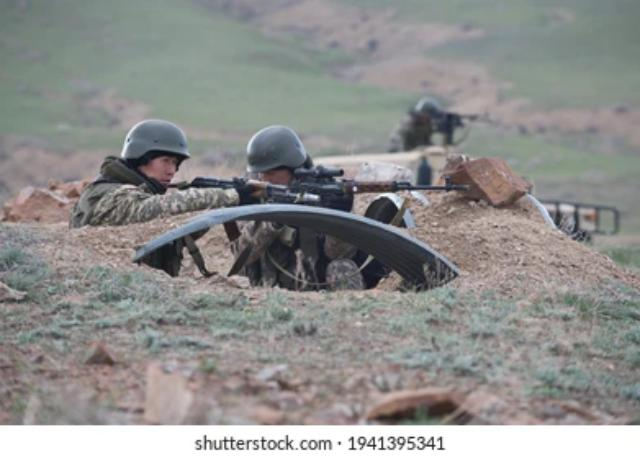other: (91, 116, 195, 219), (230, 132, 354, 201)
